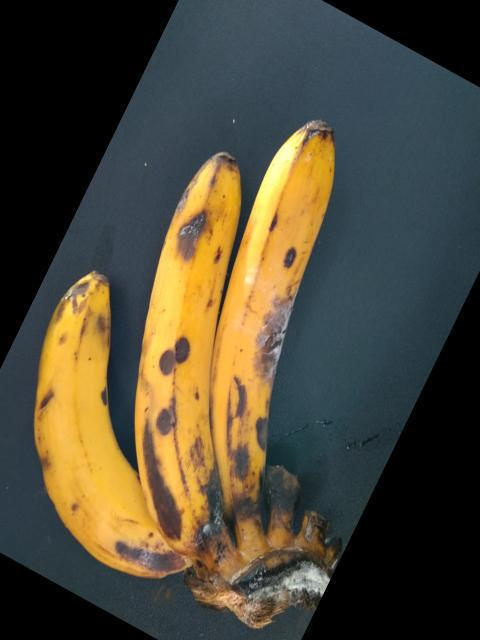overripe: (112, 139, 250, 599), (207, 102, 352, 514), (27, 264, 145, 568)
